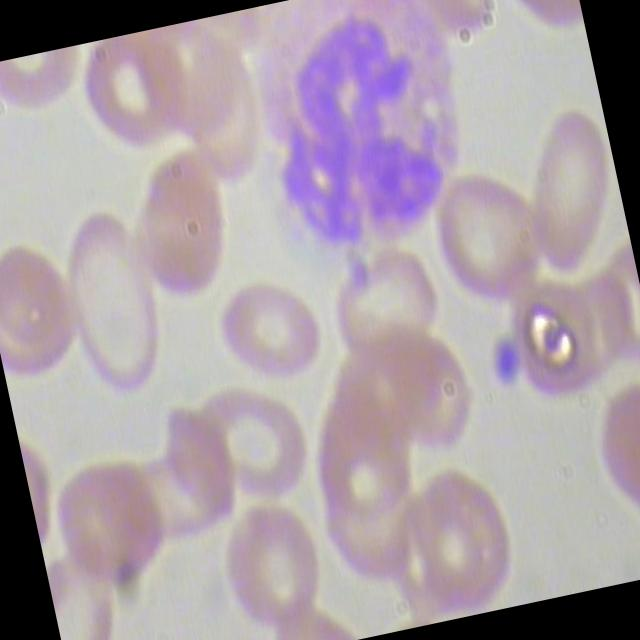Platelets: (482, 332, 534, 399)
RBC: (52, 192, 182, 404), (506, 93, 636, 285), (385, 457, 528, 626), (40, 444, 178, 600), (128, 140, 254, 310), (424, 163, 554, 324), (0, 217, 95, 424), (70, 24, 205, 162), (188, 375, 322, 513), (217, 484, 334, 640), (325, 241, 449, 378), (208, 274, 336, 392)
WBC: (220, 0, 495, 284)
